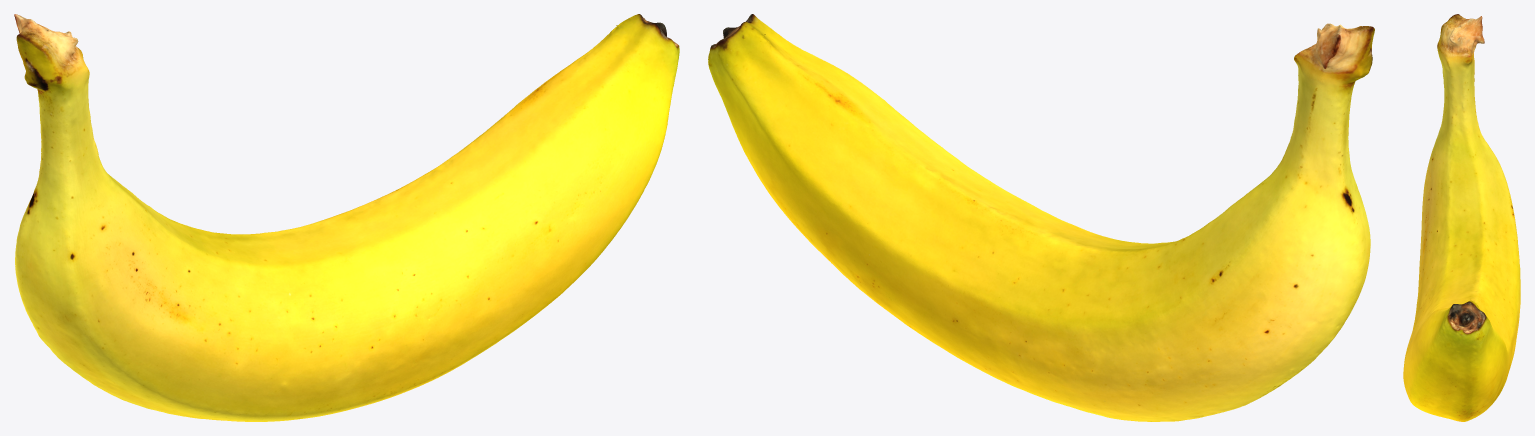
The model's file is pisang.glb.
The picture shows the model from 3 angles, left to right: view 1: azimuth 30°, elevation 25°; view 2: azimuth 150°, elevation 25°; view 3: azimuth 270°, elevation 25°; orthographic projection. The views are drawn at different scales.
Visible parts, largest first — view 1: Object_2; view 2: Object_2; view 3: Object_2.
Part boxes in pixels (x1,y1,x2,y2): Object_2: (14, 14, 679, 421); Object_2: (708, 14, 1374, 421); Object_2: (1403, 14, 1520, 421).
Bounding box in the file's own units: 6.78 × 4.44 × 1.61.
1 material, 1 textured.
